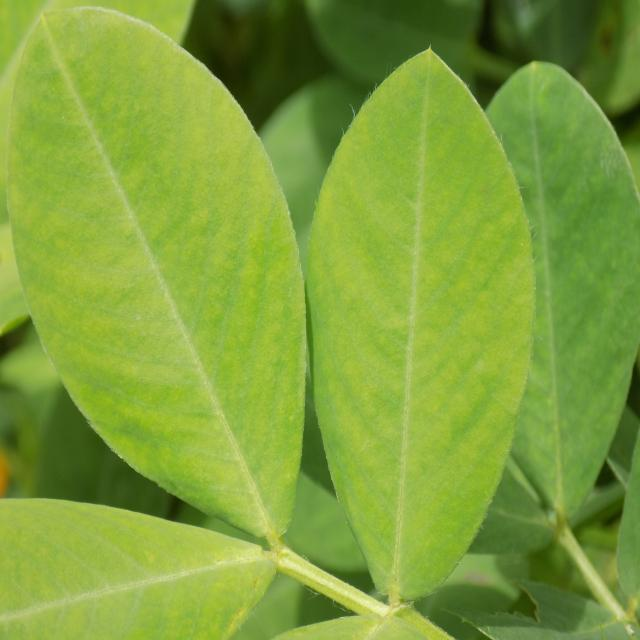Ground nut_healthy: (0, 2, 306, 532), (303, 47, 534, 601), (471, 55, 640, 511)
